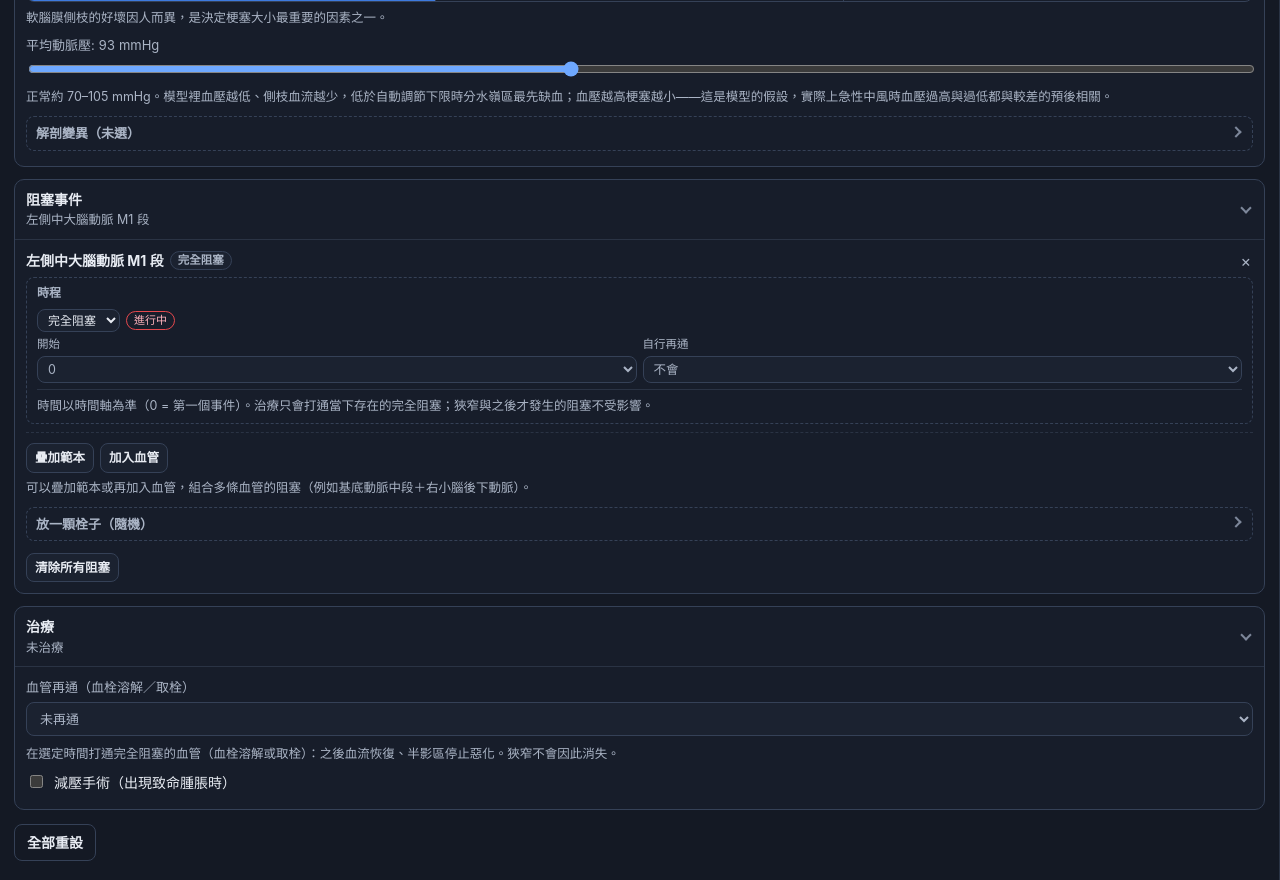
treatment details in the Settings tab › appear only once a reperfusion time is chosen, and go (and reset) when it is cleared
(page scrolled)
Check: the element "治療細節" is not shown
Select "發作後 6 小時" in the dropdown showing "未再通": [640, 719] box [26, 702, 1253, 736]
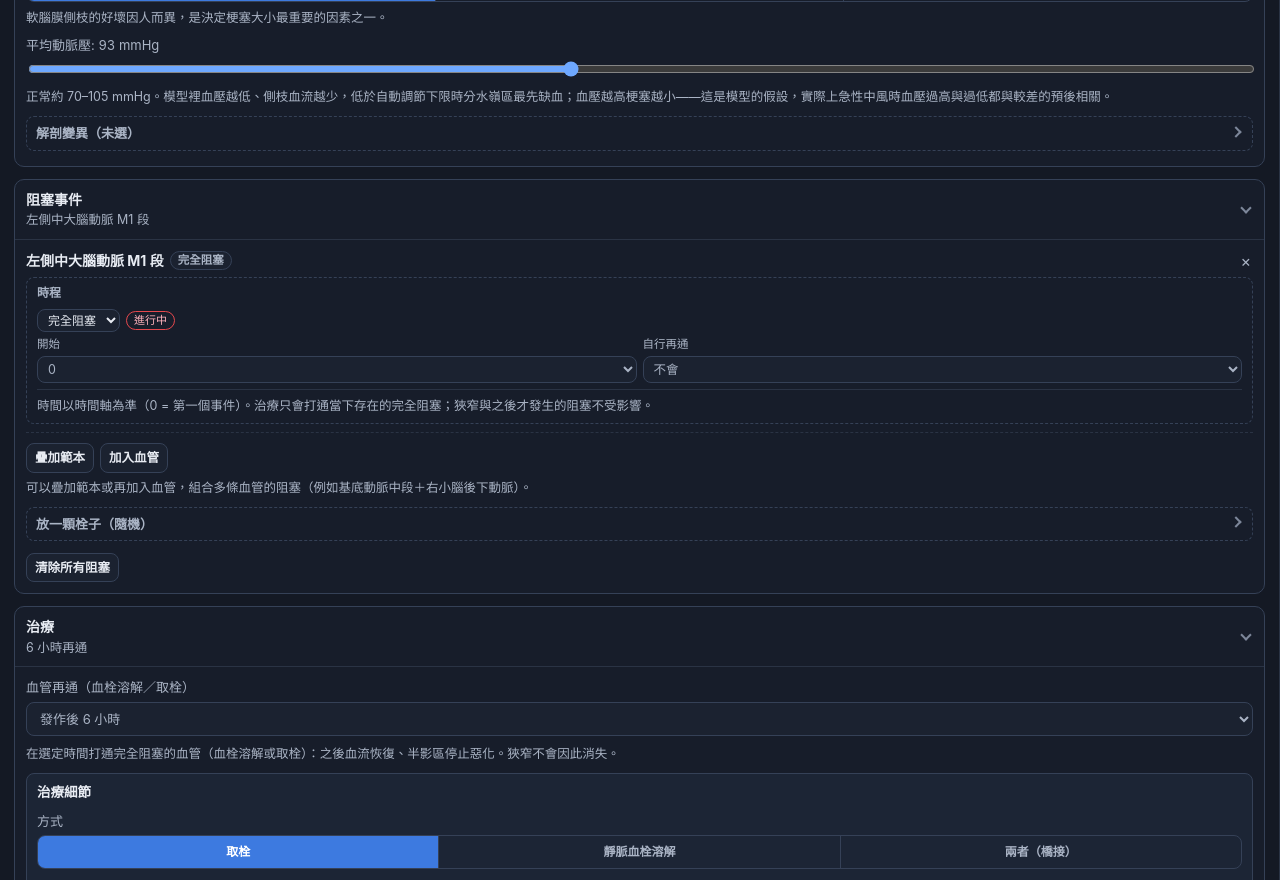
Click the radio button labelled "靜脈血栓溶解": [639, 852] box [438, 836, 840, 868]
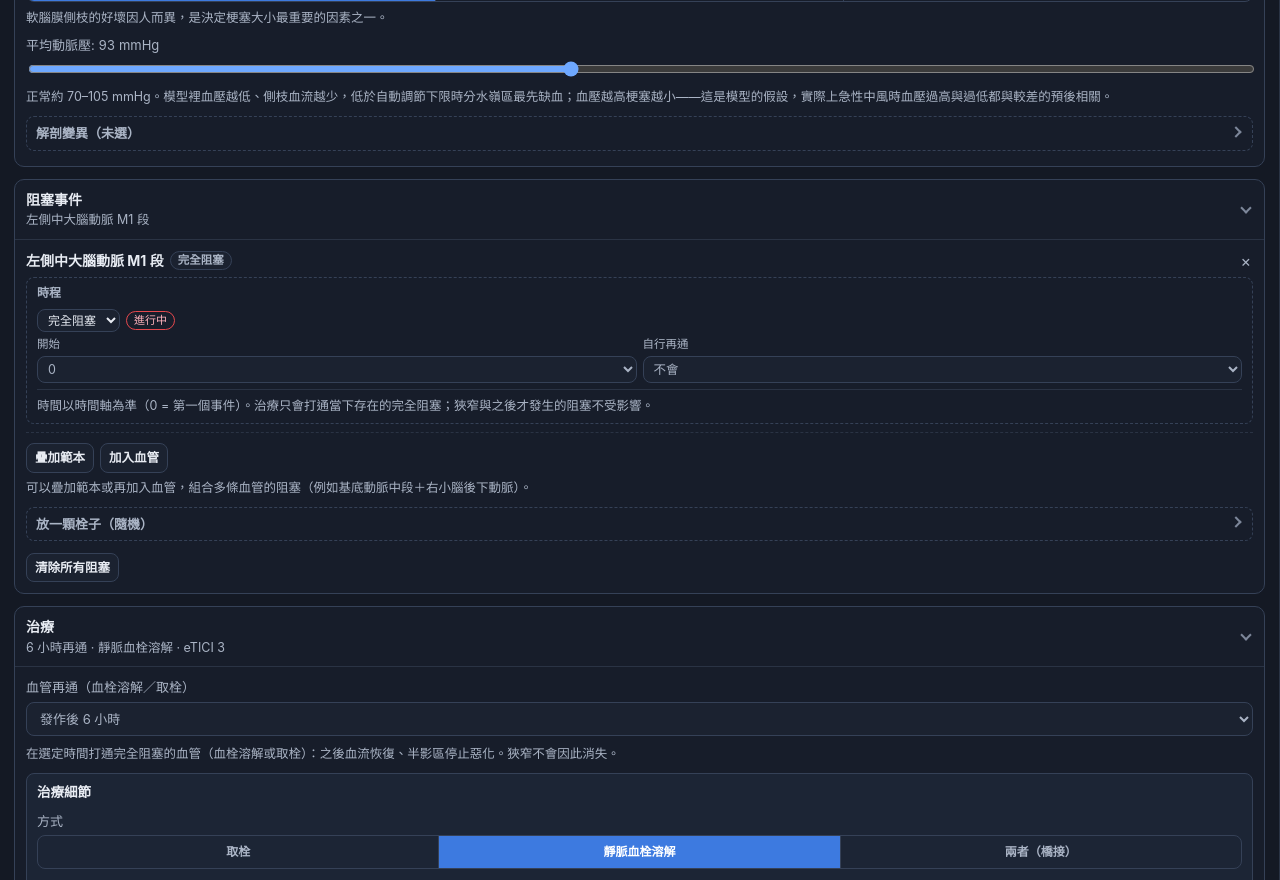
Select "未再通" in the dropdown showing "血管再通（血栓溶解／取栓）": [640, 719] box [26, 702, 1253, 736]
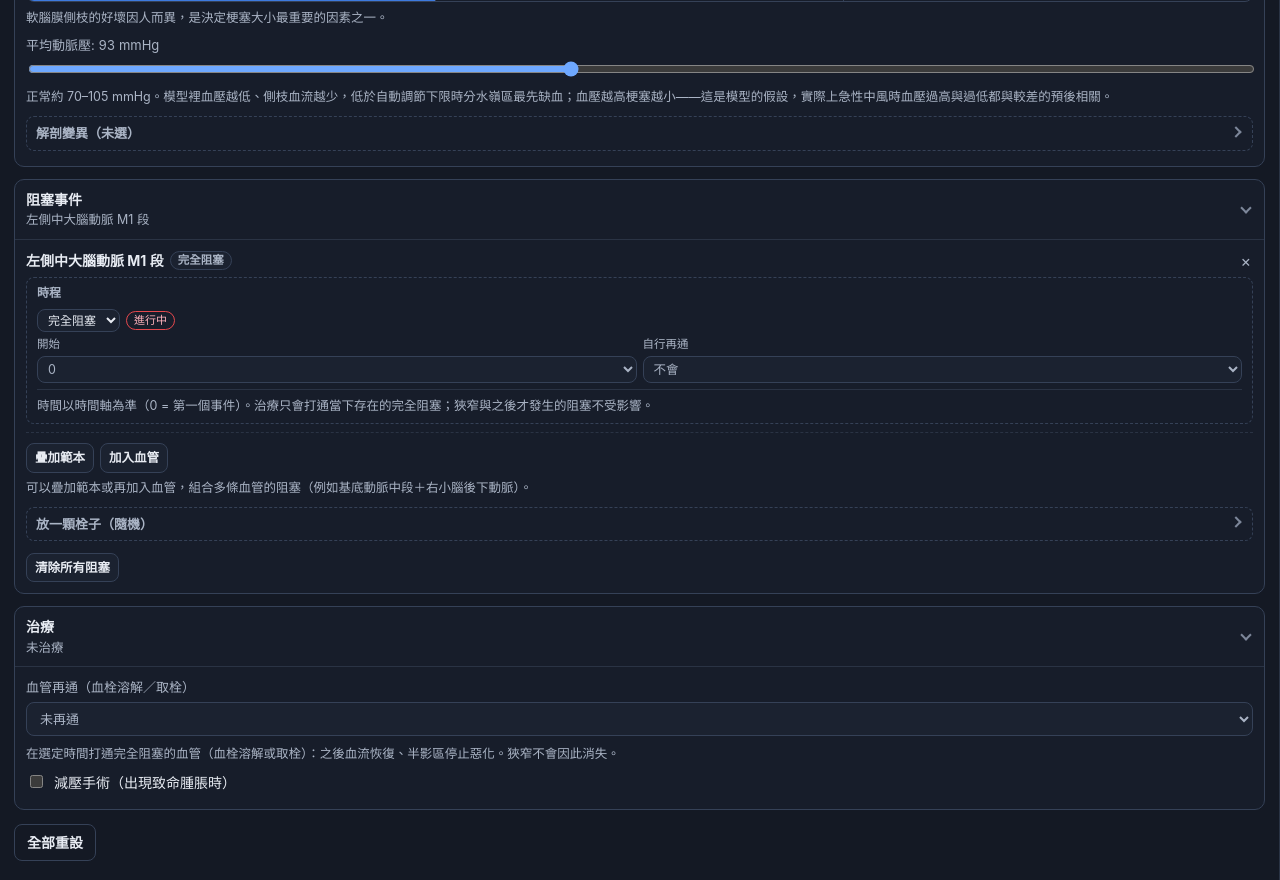
Check: the text "治療細節" is gone
